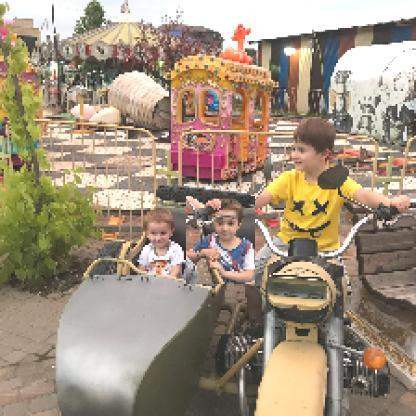child: (223, 116, 409, 332), (187, 197, 257, 286), (137, 207, 185, 278)
